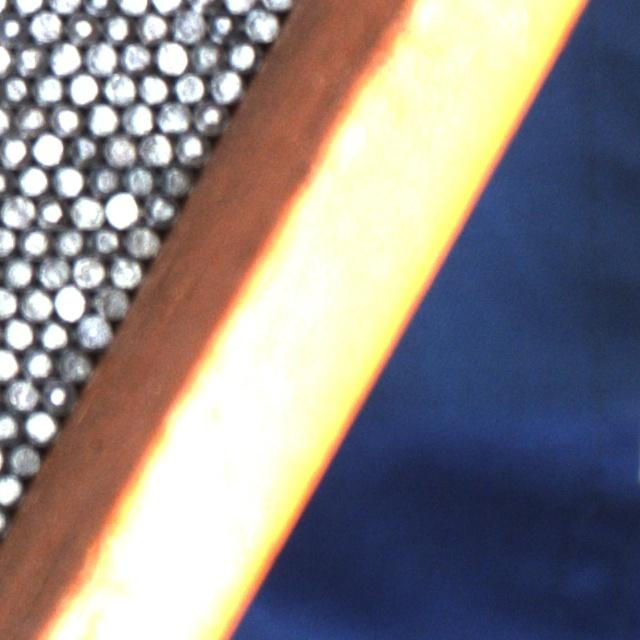tool: (53, 283, 89, 319), (92, 282, 128, 318), (74, 312, 110, 348), (3, 376, 38, 411), (55, 346, 90, 381), (66, 70, 100, 106), (138, 130, 172, 166), (36, 253, 70, 288), (85, 101, 120, 135), (30, 71, 65, 105), (31, 131, 65, 166), (170, 7, 205, 41), (71, 252, 105, 287), (102, 132, 137, 166), (134, 8, 169, 42), (102, 69, 136, 104), (104, 192, 138, 227), (154, 39, 188, 74), (48, 101, 82, 136), (12, 41, 46, 76), (140, 192, 175, 226), (242, 7, 278, 40), (0, 192, 33, 228), (16, 162, 50, 196), (156, 99, 190, 133), (120, 101, 154, 135), (172, 70, 206, 104), (13, 103, 47, 137), (20, 286, 54, 320), (28, 9, 62, 43), (70, 194, 104, 228), (67, 132, 101, 166), (137, 70, 171, 104), (122, 162, 156, 196), (87, 162, 121, 196), (64, 10, 98, 44), (118, 39, 152, 73), (51, 162, 85, 196), (1, 315, 35, 349), (48, 40, 82, 74), (189, 38, 223, 72), (208, 68, 242, 102), (204, 8, 238, 42), (172, 132, 206, 166), (8, 442, 42, 476), (84, 40, 117, 75), (18, 224, 51, 258), (37, 317, 71, 350), (89, 222, 122, 256), (1, 255, 35, 288), (52, 223, 86, 256), (34, 194, 67, 228), (100, 10, 133, 44), (23, 408, 56, 442), (125, 224, 158, 258), (109, 254, 142, 287), (20, 346, 53, 379), (191, 99, 224, 132), (160, 163, 192, 196), (39, 376, 71, 409), (226, 38, 258, 70), (0, 134, 29, 168), (0, 71, 29, 105), (0, 12, 27, 44), (0, 471, 23, 505), (0, 408, 21, 443), (0, 346, 19, 381), (0, 284, 18, 319), (0, 222, 17, 256), (80, 0, 114, 16), (10, 0, 44, 15), (46, 0, 80, 15), (186, 0, 220, 14), (116, 0, 150, 13)
